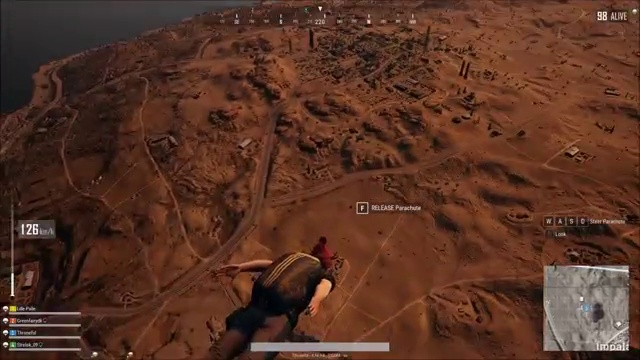Player: (187, 225, 375, 330)
